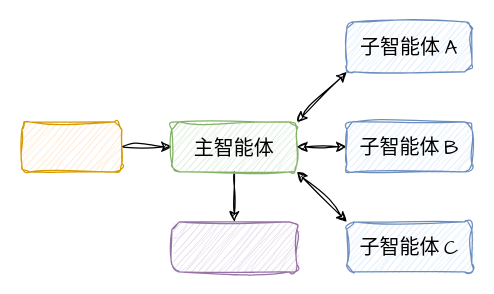
The diagram is 494 pixels wide and 294 high, and some of its shapes have lost their labels. The shapes that lost their labels are listed below. From the top down, each one's box as (x1, y1, x2, y2) in pixels, then its label:
(21, 121, 122, 172): 用户
(171, 221, 297, 272): 输出
